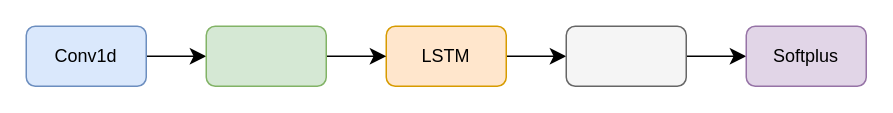
This 893x113 diagram has some shape labels left out. The box of each missing label's shape, as (x1, y1, x2, y2) in pixels:
BatchNorm: (205, 25, 326, 86)
Linear: (565, 25, 686, 86)
